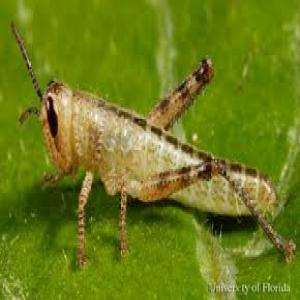locust: (23, 36, 300, 253)
